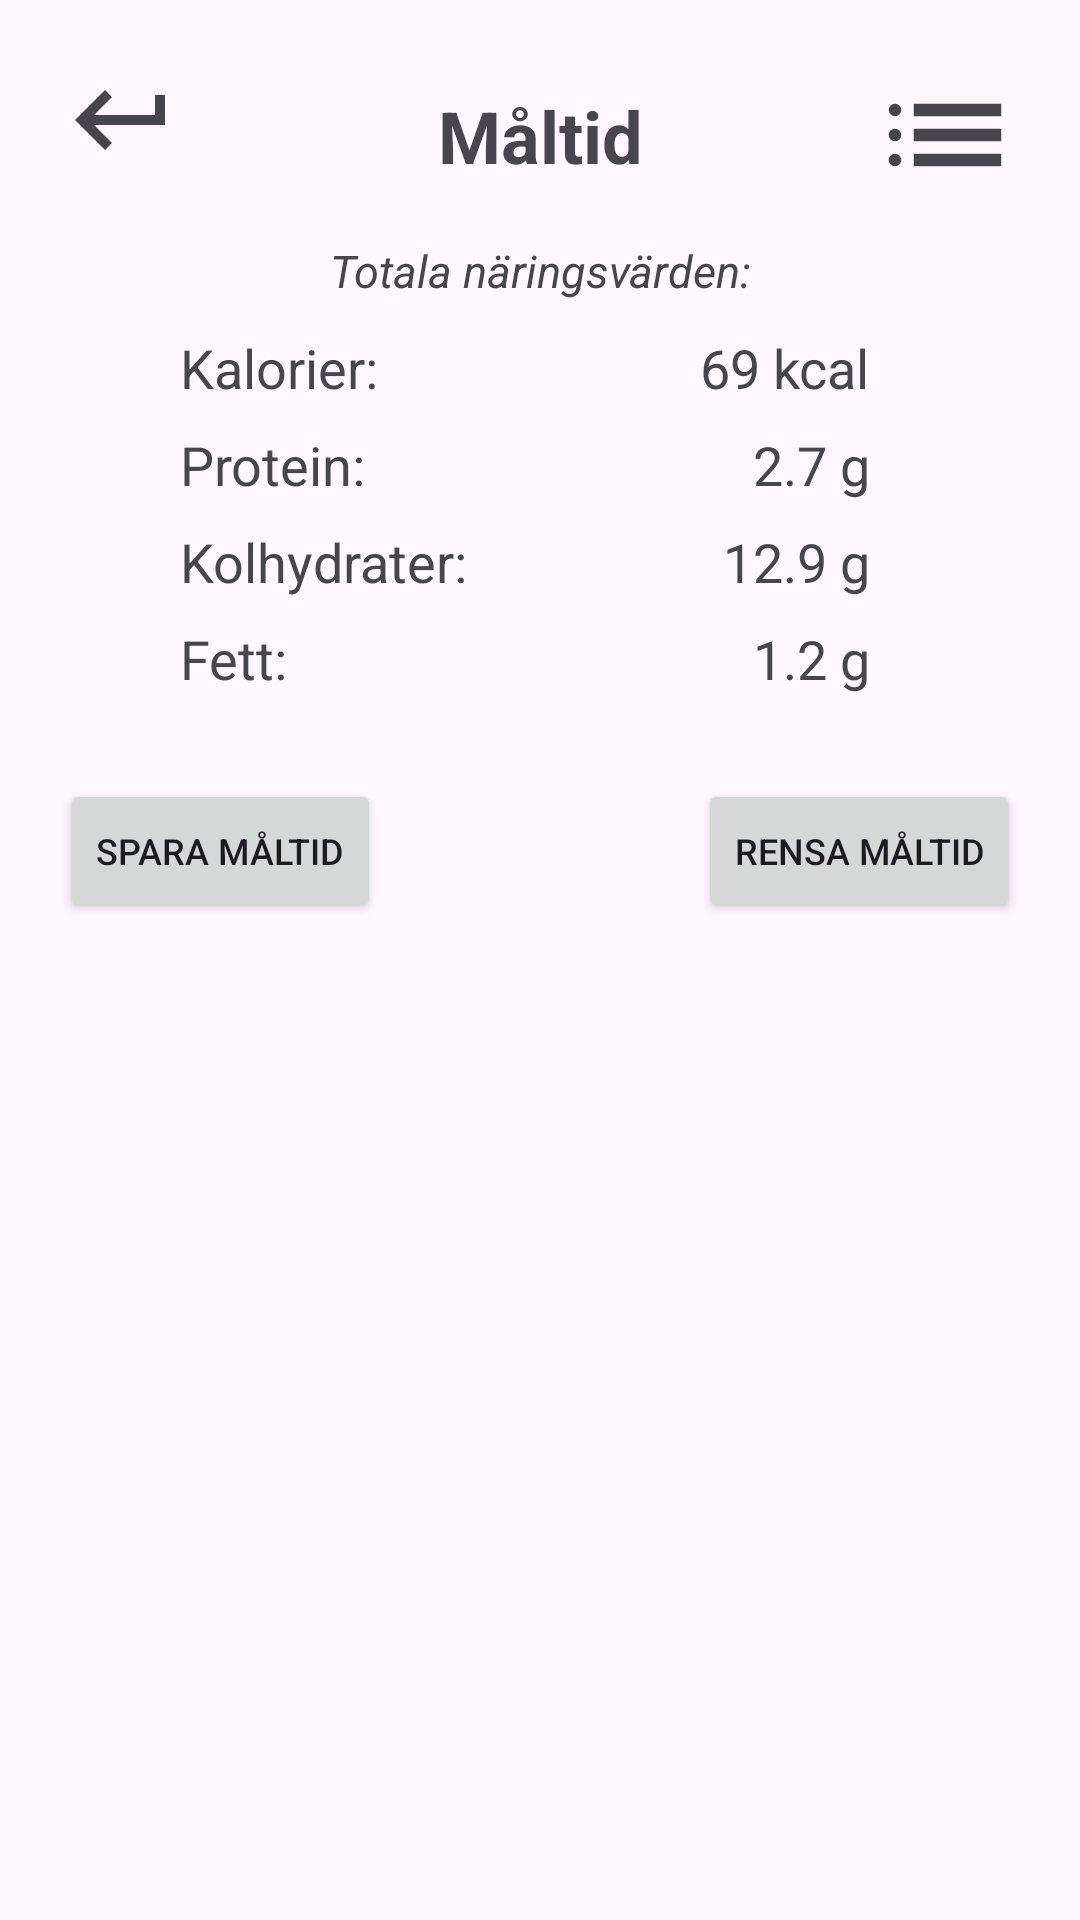

Icons on this 1080×1920 Android screen, each with its box as (x1, y1, x2, y2):
keyboard return: (75, 90, 165, 150)
list: (888, 103, 1002, 167)
